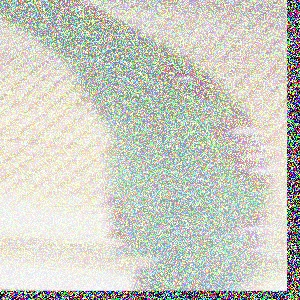Brown_Spot: (163, 53, 226, 111), (45, 0, 132, 39), (204, 113, 269, 144), (223, 158, 278, 184), (215, 143, 275, 165), (227, 218, 268, 247), (232, 237, 278, 261)
